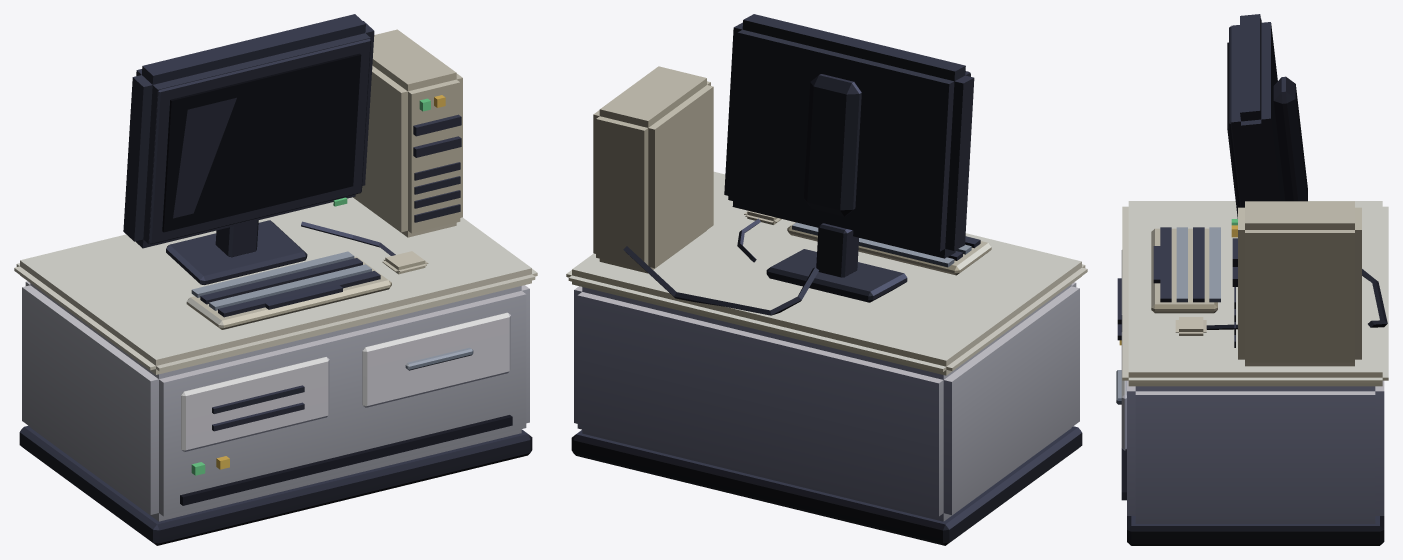
Rendered from pc_dark.glb.
3 renders of one model, left to right at view 1: azimuth 30°, elevation 25°; view 2: azimuth 150°, elevation 25°; view 3: azimuth 270°, elevation 25°, orthographic. The views are drawn at different scales.
Parts seen in each view (by area): view 1: pc_dark; view 2: pc_dark; view 3: pc_dark.
Boxes of the visible parts, left/top/right/bottom form: pc_dark: left=14, top=14, right=537, bottom=545; pc_dark: left=566, top=14, right=1087, bottom=545; pc_dark: left=1116, top=14, right=1388, bottom=545.
Size of the model in its own units: 0.94 by 0.9647 by 0.614.
